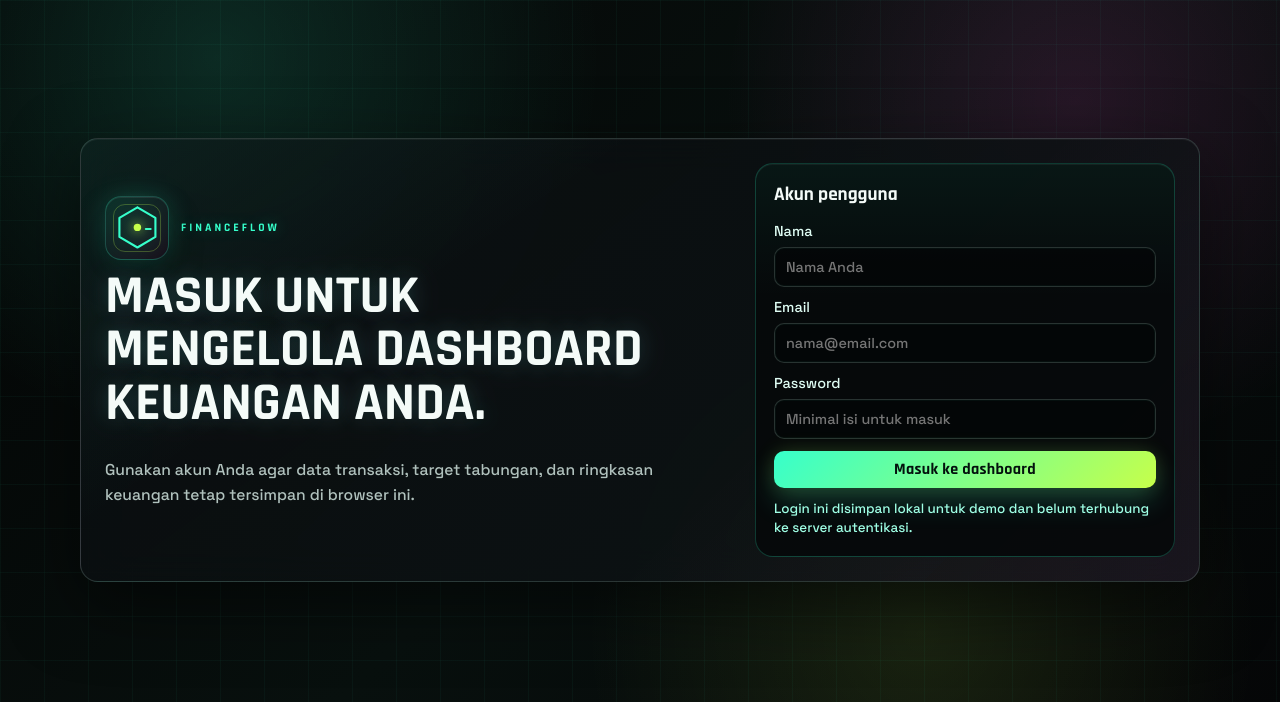
Test: Tips strategi bulan ini › menampilkan bagian akun setelah login dan bisa keluar
Type "Fhilip" into the field labelled "Nama".
click(965, 267); type("Fhilip")  # box [774,247,1156,287]
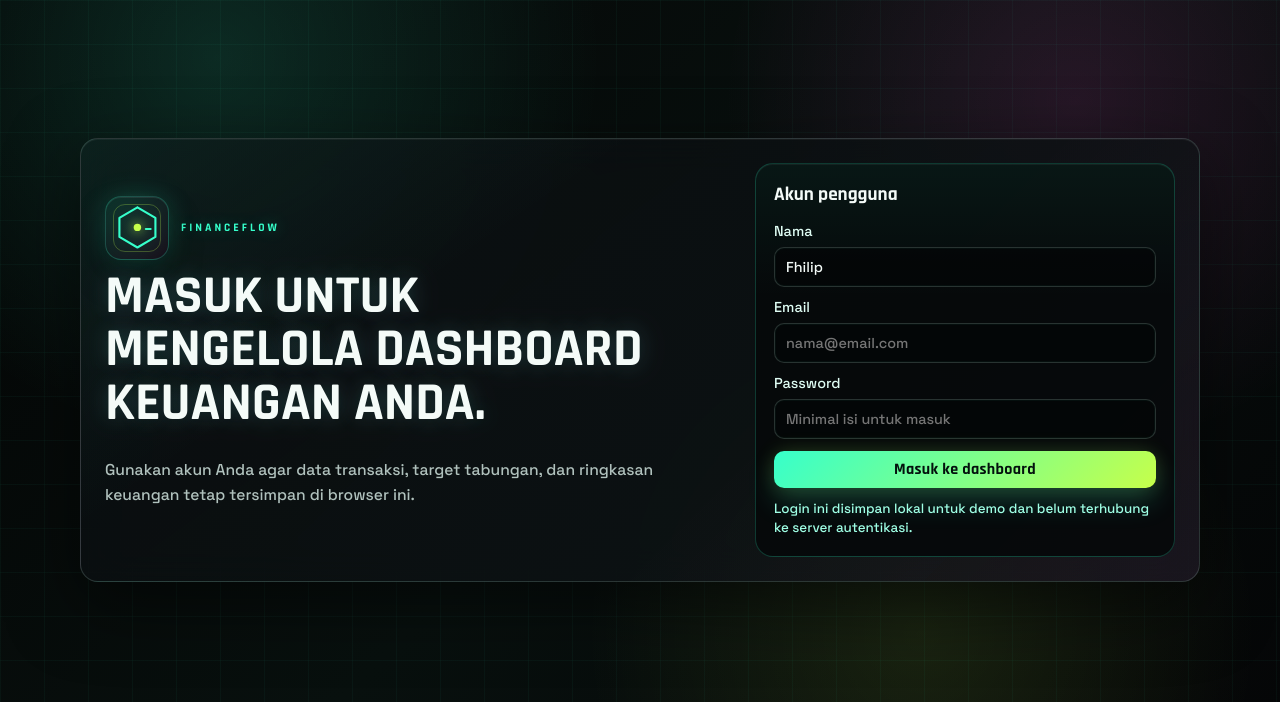
Type "fhilip@example.com" into the field labelled "Email".
click(965, 343); type("fhilip@example.com")  # box [774,323,1156,363]
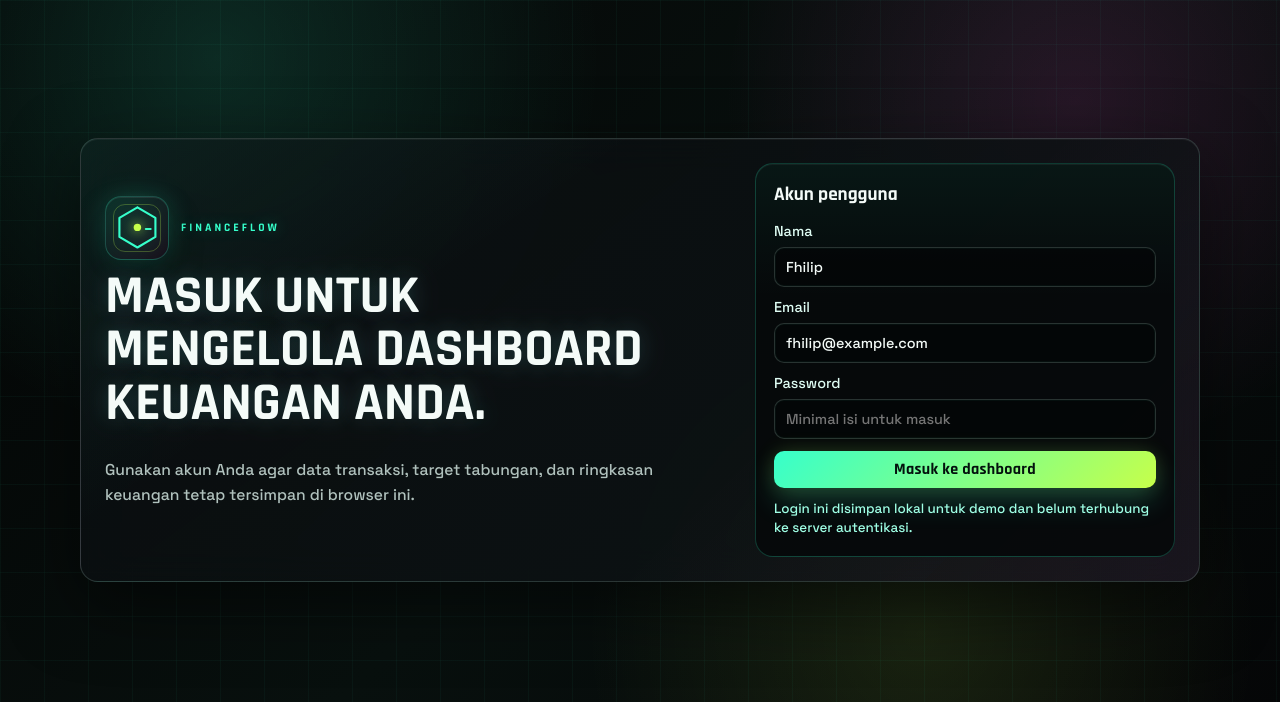
Type "rahasia" into the password field labelled "Password".
click(965, 419); type("rahasia")  # box [774,399,1156,439]
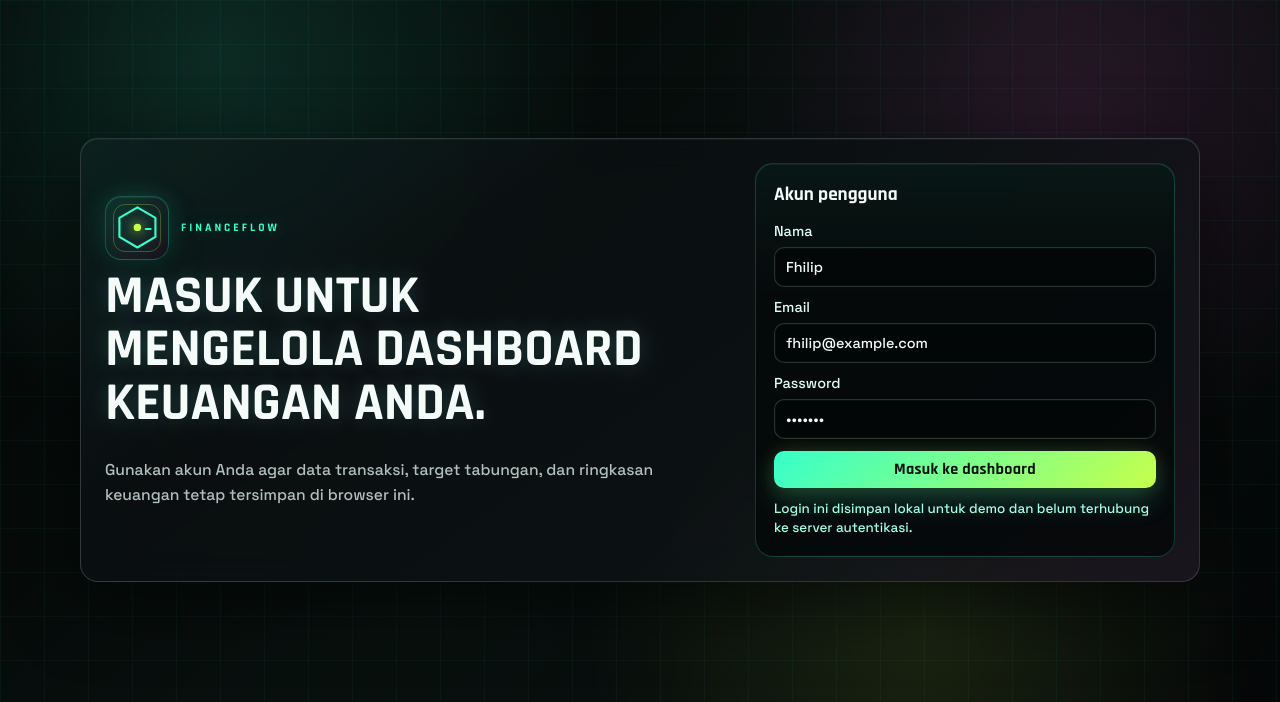
Click the button "Masuk ke dashboard".
click(965, 470)  # box [774,451,1156,488]
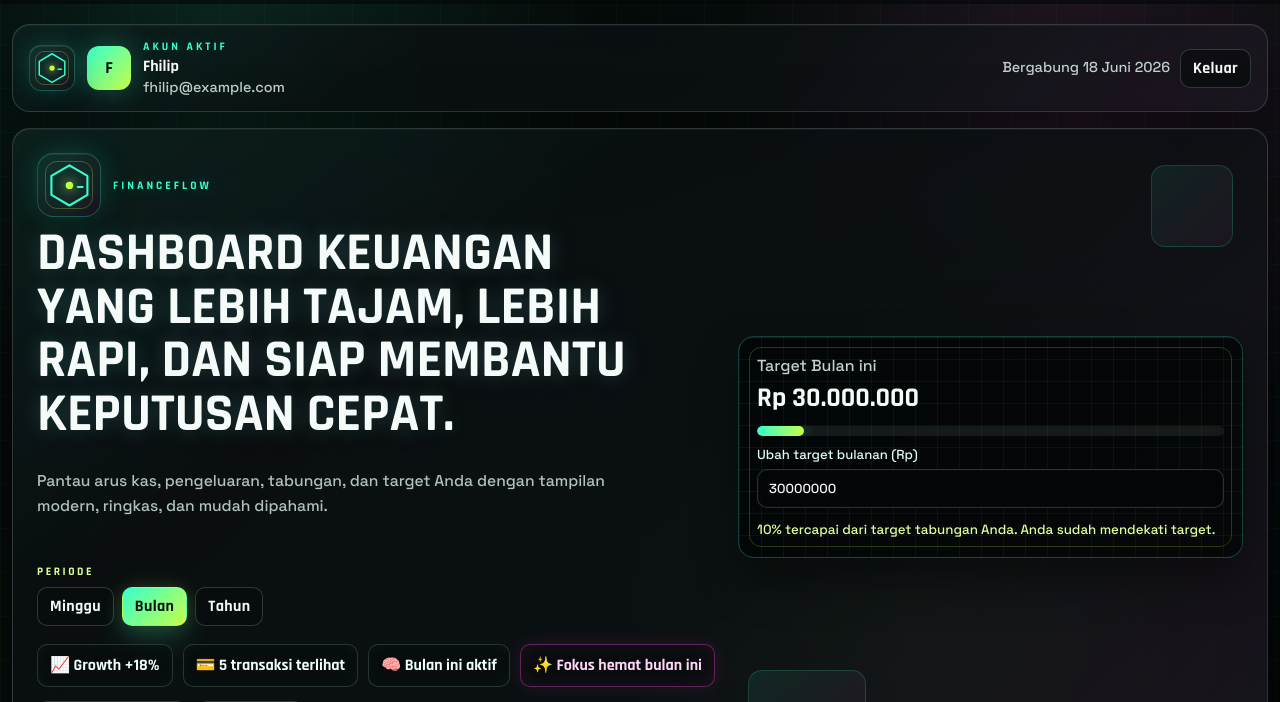
Expected: the element named "akun pengguna" is shown, [12,24,1268,112]
Expected: the text "Fhilip" is shown, [143,56,179,77]
Expected: the text "fhilip@example.com" is shown, [143,79,285,97]
Click the button "Keluar".
click(1216, 68)  # box [1180,48,1251,88]
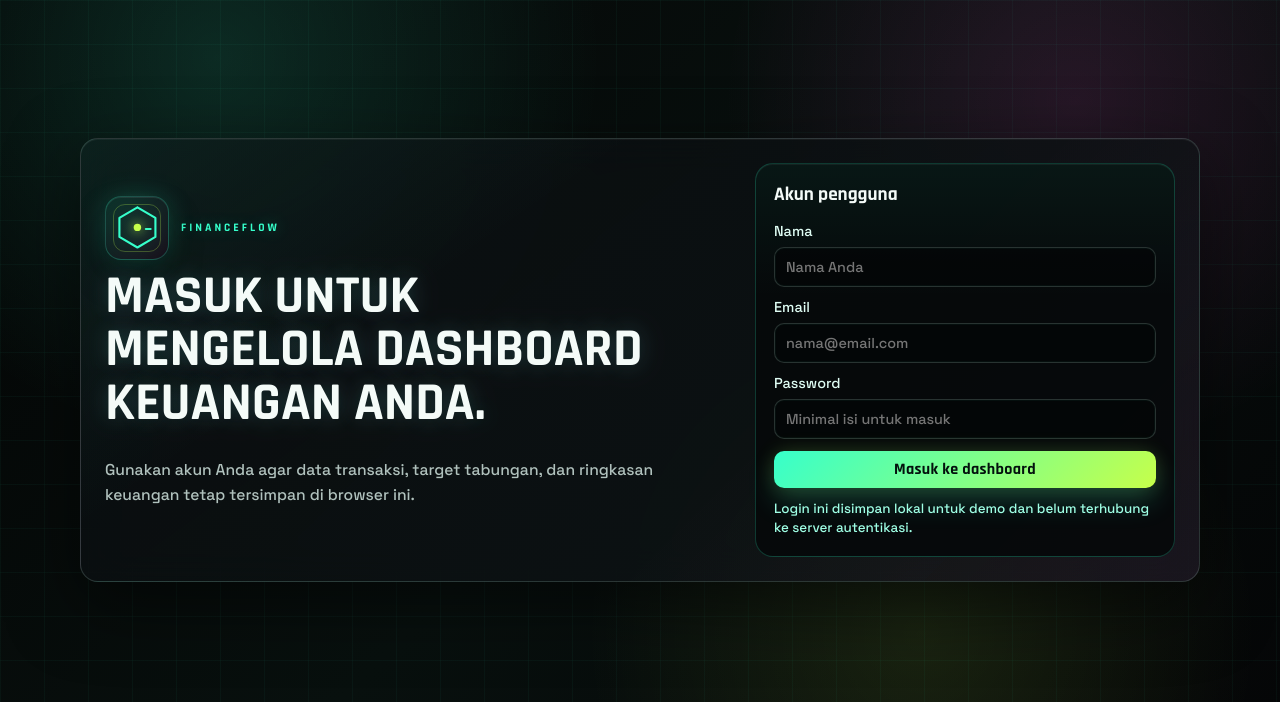
Expected: the button "Masuk ke dashboard" is shown, [774,451,1156,488]
